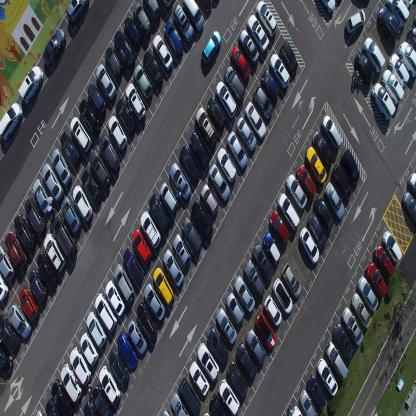car: (51, 212, 78, 258), (17, 65, 43, 105), (370, 81, 396, 120), (194, 106, 218, 147), (42, 27, 66, 68), (95, 291, 118, 333), (143, 280, 166, 321), (41, 162, 64, 203), (190, 199, 212, 241), (113, 262, 135, 304), (168, 162, 191, 202), (147, 193, 170, 233), (43, 232, 66, 272), (233, 274, 256, 314), (378, 4, 401, 44), (4, 230, 27, 270), (341, 306, 364, 346), (325, 341, 348, 381), (332, 322, 355, 362), (0, 102, 23, 142), (69, 345, 91, 386), (60, 362, 82, 403), (197, 342, 219, 383), (13, 213, 36, 252), (226, 130, 248, 170), (178, 146, 200, 186), (208, 162, 230, 202), (162, 248, 184, 288), (278, 192, 300, 232), (244, 100, 266, 140), (98, 132, 120, 172), (207, 326, 229, 366), (99, 365, 121, 405), (24, 196, 46, 236), (113, 29, 135, 69), (7, 303, 32, 338), (247, 14, 270, 52), (311, 129, 334, 167), (153, 265, 174, 306), (227, 359, 248, 400), (236, 341, 257, 382), (243, 258, 265, 297), (251, 242, 273, 281), (78, 98, 100, 137), (381, 68, 404, 105), (117, 329, 138, 369), (36, 250, 57, 290), (51, 146, 72, 186), (173, 3, 194, 43), (122, 245, 144, 283), (215, 307, 237, 345), (215, 79, 237, 117), (89, 149, 111, 187), (286, 172, 308, 210), (272, 277, 294, 315), (223, 64, 245, 102), (238, 28, 260, 66), (255, 0, 277, 38), (363, 36, 385, 74), (94, 63, 116, 101), (152, 33, 174, 71), (366, 260, 388, 298), (178, 377, 200, 415), (218, 378, 240, 416), (51, 379, 74, 415), (69, 116, 92, 152), (107, 113, 128, 152), (255, 311, 276, 350), (125, 81, 146, 120), (108, 348, 129, 387), (59, 129, 80, 168), (306, 373, 327, 412), (60, 196, 82, 233), (126, 318, 148, 355), (18, 285, 40, 322), (268, 52, 290, 89), (388, 52, 410, 89), (320, 113, 342, 150), (316, 358, 338, 395), (325, 181, 345, 221), (0, 312, 20, 352), (32, 177, 52, 217), (188, 132, 209, 170), (72, 182, 93, 220), (104, 278, 125, 316), (313, 195, 334, 233), (80, 168, 102, 204), (308, 211, 328, 250), (236, 115, 257, 152), (299, 226, 320, 263), (132, 63, 153, 100), (115, 97, 136, 134), (252, 84, 273, 121), (351, 292, 372, 329), (188, 361, 210, 396), (140, 210, 160, 248), (132, 227, 152, 265), (86, 310, 106, 348), (281, 261, 301, 299), (246, 327, 266, 365), (142, 50, 163, 86), (200, 30, 221, 66), (373, 244, 395, 278), (296, 163, 316, 200), (306, 146, 326, 183), (132, 1, 152, 38), (181, 216, 201, 252), (217, 148, 237, 184), (79, 329, 99, 365), (358, 276, 378, 312), (354, 51, 375, 85), (136, 300, 158, 332), (341, 148, 360, 185), (333, 163, 352, 200), (164, 20, 183, 57), (398, 39, 416, 78), (270, 209, 290, 244), (28, 268, 48, 303), (230, 45, 250, 80), (123, 14, 142, 50), (182, 0, 204, 31), (386, 0, 410, 28), (172, 232, 191, 267), (382, 230, 402, 263), (199, 184, 218, 218), (225, 290, 244, 324), (87, 82, 106, 116), (92, 383, 112, 415), (280, 39, 298, 74), (262, 231, 281, 264), (263, 294, 282, 327), (207, 96, 226, 129), (261, 69, 279, 103), (104, 45, 122, 79), (159, 181, 177, 214), (0, 245, 16, 282), (345, 7, 366, 35), (298, 388, 318, 415), (66, 0, 89, 23), (402, 190, 416, 227), (0, 346, 14, 376), (209, 394, 228, 415), (170, 393, 188, 415), (143, 0, 161, 20), (44, 397, 60, 415), (407, 23, 416, 52), (0, 273, 9, 302), (319, 0, 336, 15), (198, 0, 213, 15), (82, 400, 96, 416), (407, 171, 416, 195), (289, 404, 303, 415), (162, 0, 175, 8), (402, 0, 414, 8), (33, 408, 44, 416), (159, 408, 169, 416)
